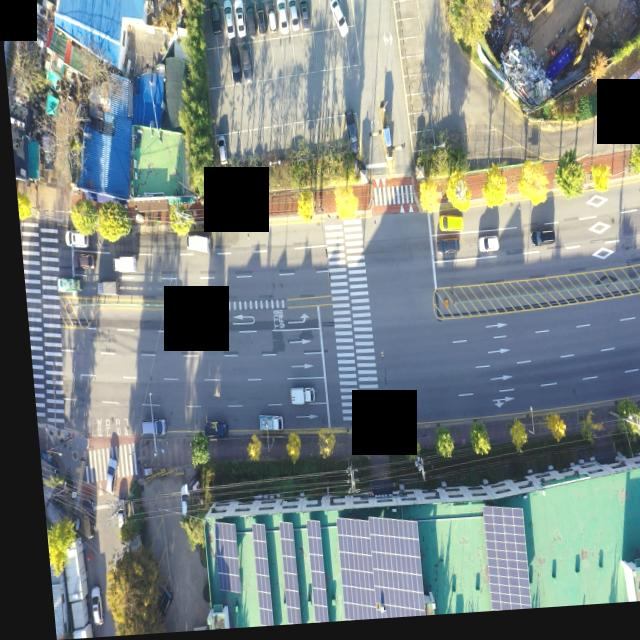car: (94, 460, 111, 500), (341, 116, 356, 161), (329, 2, 345, 43), (524, 235, 552, 254), (146, 587, 162, 620), (72, 504, 86, 541), (222, 3, 235, 42), (133, 417, 158, 437), (239, 45, 252, 83), (433, 221, 459, 240), (210, 0, 221, 40), (79, 586, 90, 626), (297, 0, 309, 35), (376, 415, 399, 433), (277, 3, 288, 40), (235, 3, 246, 40), (228, 46, 238, 86), (62, 231, 84, 248), (287, 0, 298, 34), (170, 485, 181, 519), (248, 7, 258, 43), (255, 3, 265, 38), (431, 244, 454, 259), (472, 243, 493, 259), (71, 254, 90, 271), (268, 5, 278, 37), (214, 136, 224, 167), (106, 498, 116, 527)
medium_truck: (521, 0, 566, 32)
small_truck: (104, 257, 130, 277), (181, 235, 207, 255), (196, 422, 221, 442), (283, 390, 309, 409), (251, 415, 276, 434), (49, 276, 76, 293), (89, 280, 113, 297)
